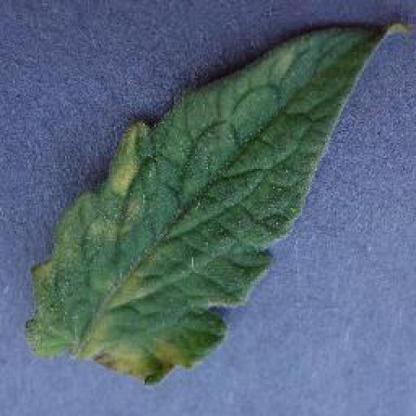Tomato_Leaf_Mold: (27, 18, 395, 386)
